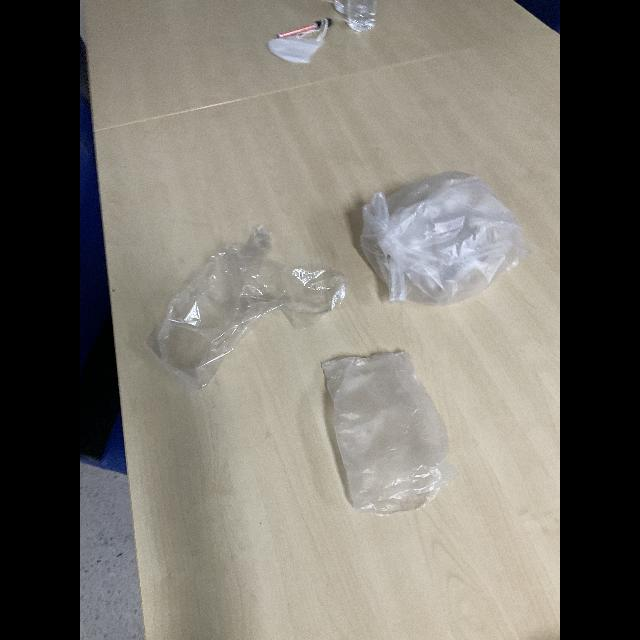plastic_bag: (342, 156, 540, 304)
scrap_plastic: (144, 203, 346, 395), (292, 337, 452, 511)
